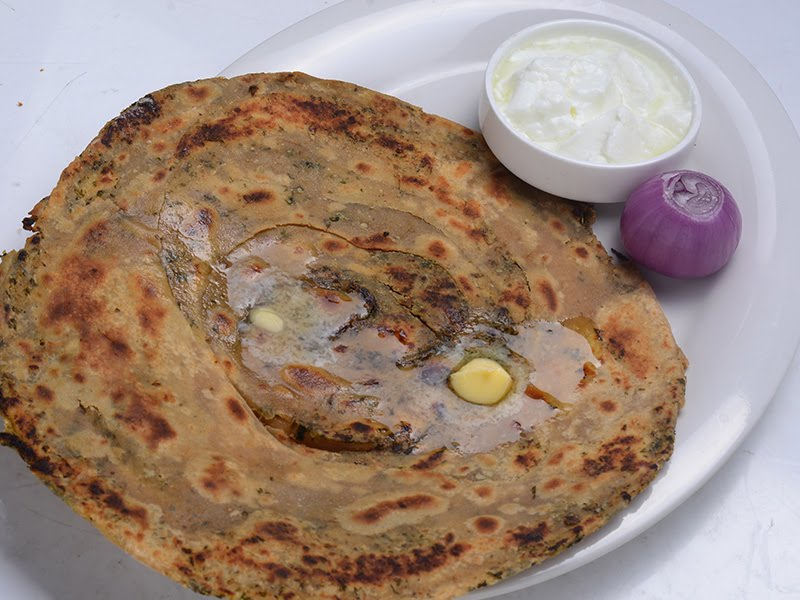aloo_paratha: (2, 79, 681, 600)
